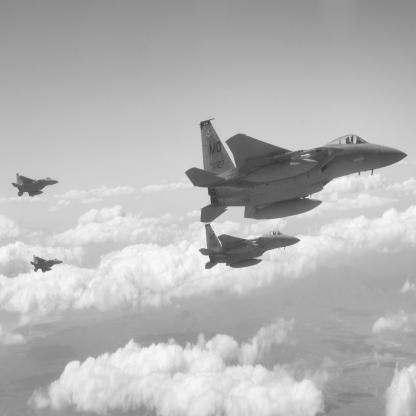F15: (185, 118, 409, 224), (200, 225, 302, 271), (12, 174, 60, 198), (31, 255, 64, 274)
